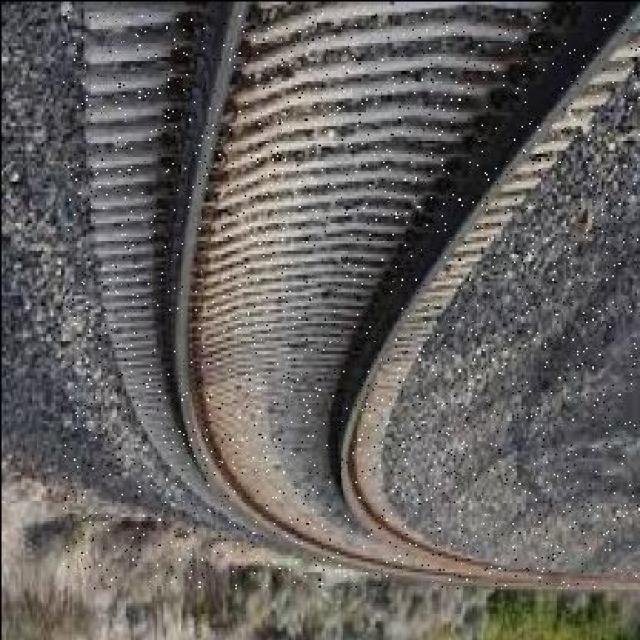rail: (62, 9, 640, 587)
